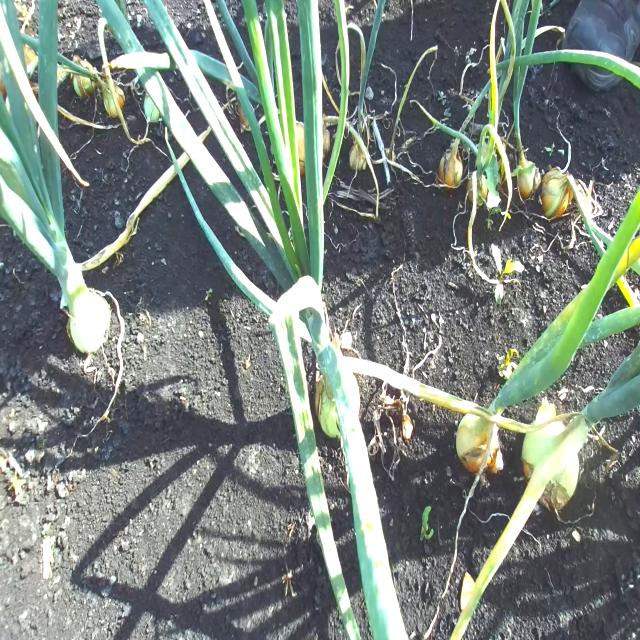onion: (456, 409, 503, 476), (315, 373, 342, 440), (540, 166, 573, 220), (512, 149, 542, 201), (438, 138, 464, 190)
